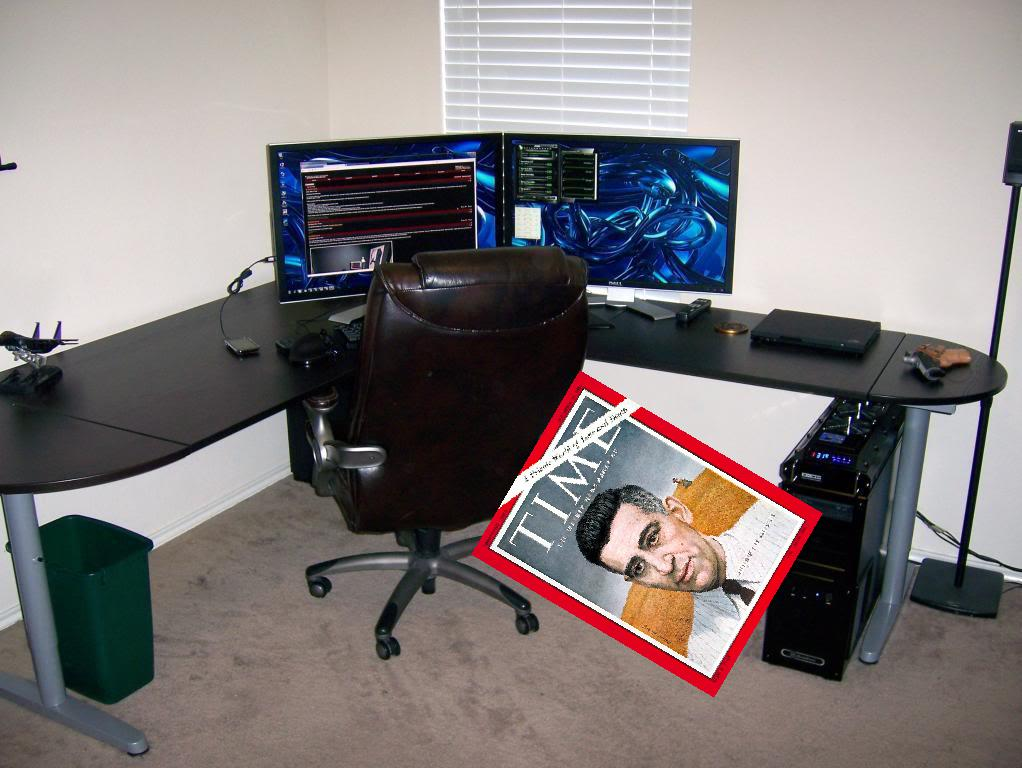times: (470, 369, 823, 699)
